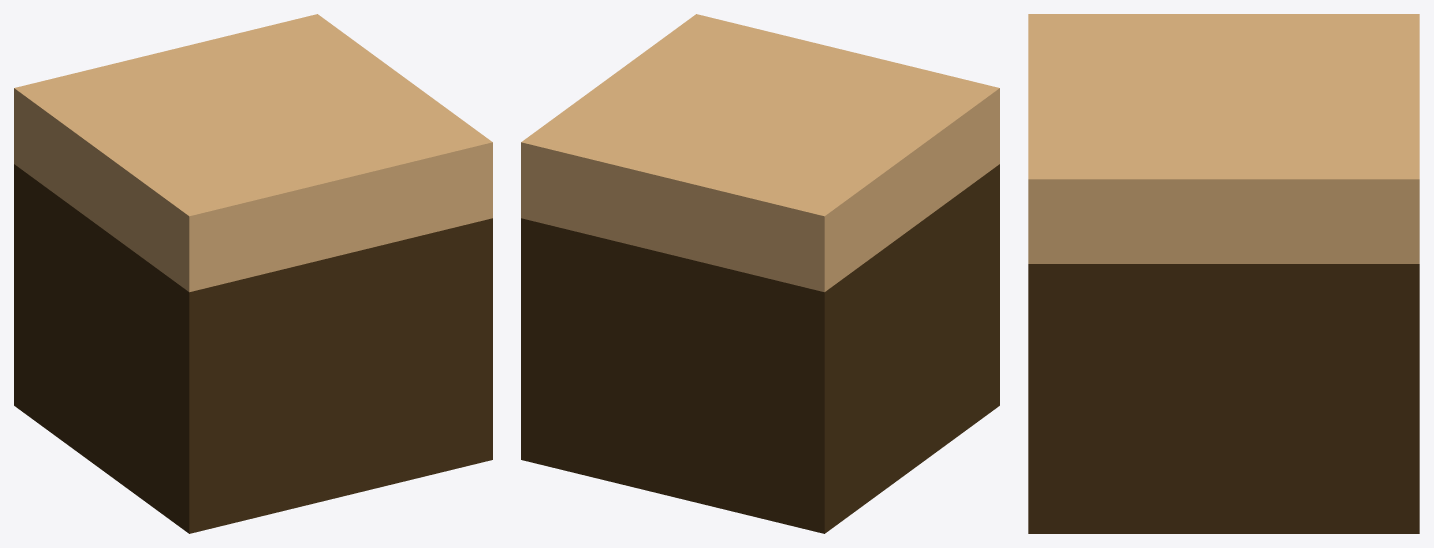
The model's file is floor.fbx.
3 renders of one model, left to right at view 1: azimuth 30°, elevation 25°; view 2: azimuth 150°, elevation 25°; view 3: azimuth 270°, elevation 25°, orthographic. The views are drawn at different scales.
Visible parts, largest first — view 1: Floor; view 2: Floor; view 3: Floor.
Boxes of the visible parts, <box> form: Floor: <box>14,14,492,533</box>; Floor: <box>521,14,999,533</box>; Floor: <box>1028,14,1419,533</box>.
Size of the model in its own units: 1 by 1 by 1.
